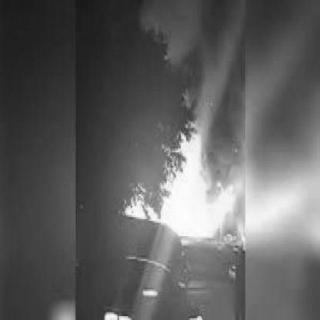Fire: (124, 118, 237, 240)
